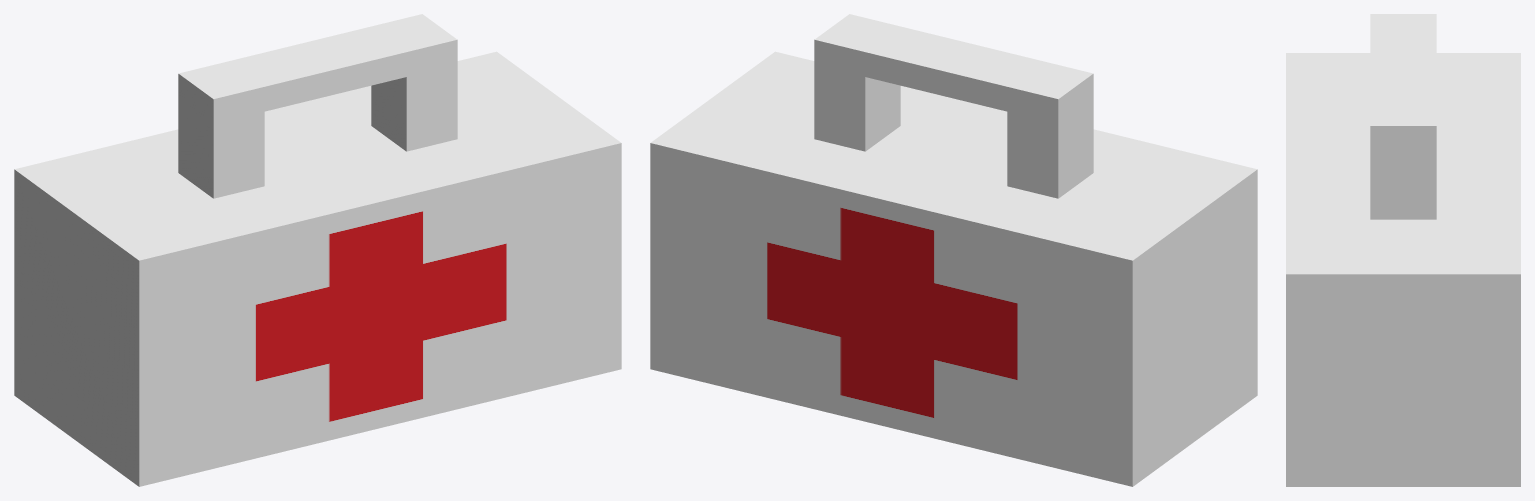
File: medkit.fbx
3 renders of one model, left to right at view 1: azimuth 30°, elevation 25°; view 2: azimuth 150°, elevation 25°; view 3: azimuth 270°, elevation 25°, orthographic. The views are drawn at different scales.
Visible parts, largest first — view 1: Cube; view 2: Cube; view 3: Cube.
Part boxes in pixels (x1,y1,x2,y2): Cube: (14,14,621,486); Cube: (650,14,1257,486); Cube: (1286,14,1520,486).
Bounding box in the file's own units: 330 × 213 × 148.
1 material, 1 textured.
